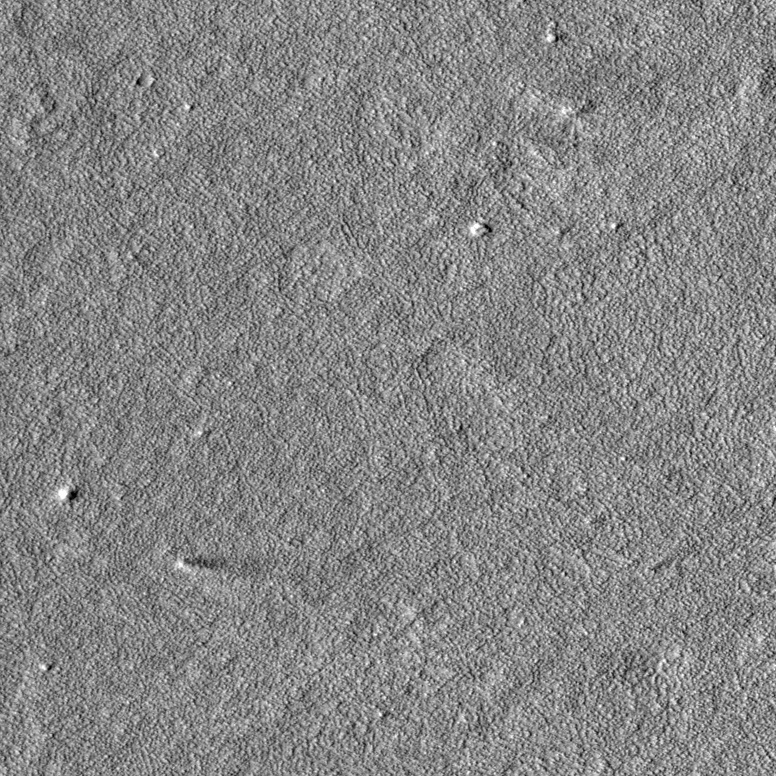dust_devil: (174, 557, 225, 575)
